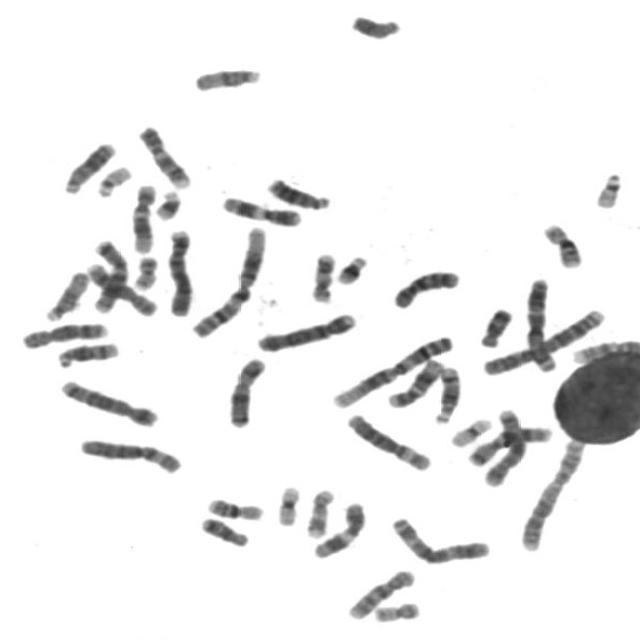A1: (328, 328, 457, 409), (187, 219, 271, 339)
A2: (478, 302, 611, 377), (515, 433, 589, 553)
A3: (387, 510, 495, 566), (521, 271, 561, 374)
B4: (252, 306, 361, 354), (162, 222, 199, 318)
B5: (55, 374, 163, 428), (479, 403, 530, 487)
C10: (342, 563, 420, 621), (388, 263, 465, 310)
C11: (308, 496, 371, 560), (216, 189, 306, 228)
C12: (382, 352, 448, 408), (125, 178, 160, 255)
C6: (342, 407, 436, 472), (75, 431, 187, 476)
C7: (462, 420, 556, 468), (87, 233, 132, 314)
C8: (81, 256, 162, 318), (15, 315, 113, 350)
C9: (134, 120, 196, 190), (569, 333, 639, 364)
D13: (58, 134, 120, 194), (263, 171, 335, 211)
D14: (52, 335, 123, 370), (430, 359, 466, 425)
D15: (39, 265, 93, 322), (189, 61, 266, 93)
E16: (538, 217, 588, 270), (202, 491, 269, 522)
E17: (302, 483, 339, 539), (306, 246, 339, 304)
E18: (474, 301, 518, 349), (196, 511, 253, 548)
F19: (446, 412, 496, 449), (271, 479, 305, 527)
F20: (369, 595, 425, 623), (128, 248, 162, 292)
G21: (331, 249, 372, 286), (149, 183, 186, 222)
G22: (590, 165, 627, 210), (92, 159, 135, 197)
X: (223, 350, 270, 429)
Y: (345, 8, 405, 40)
